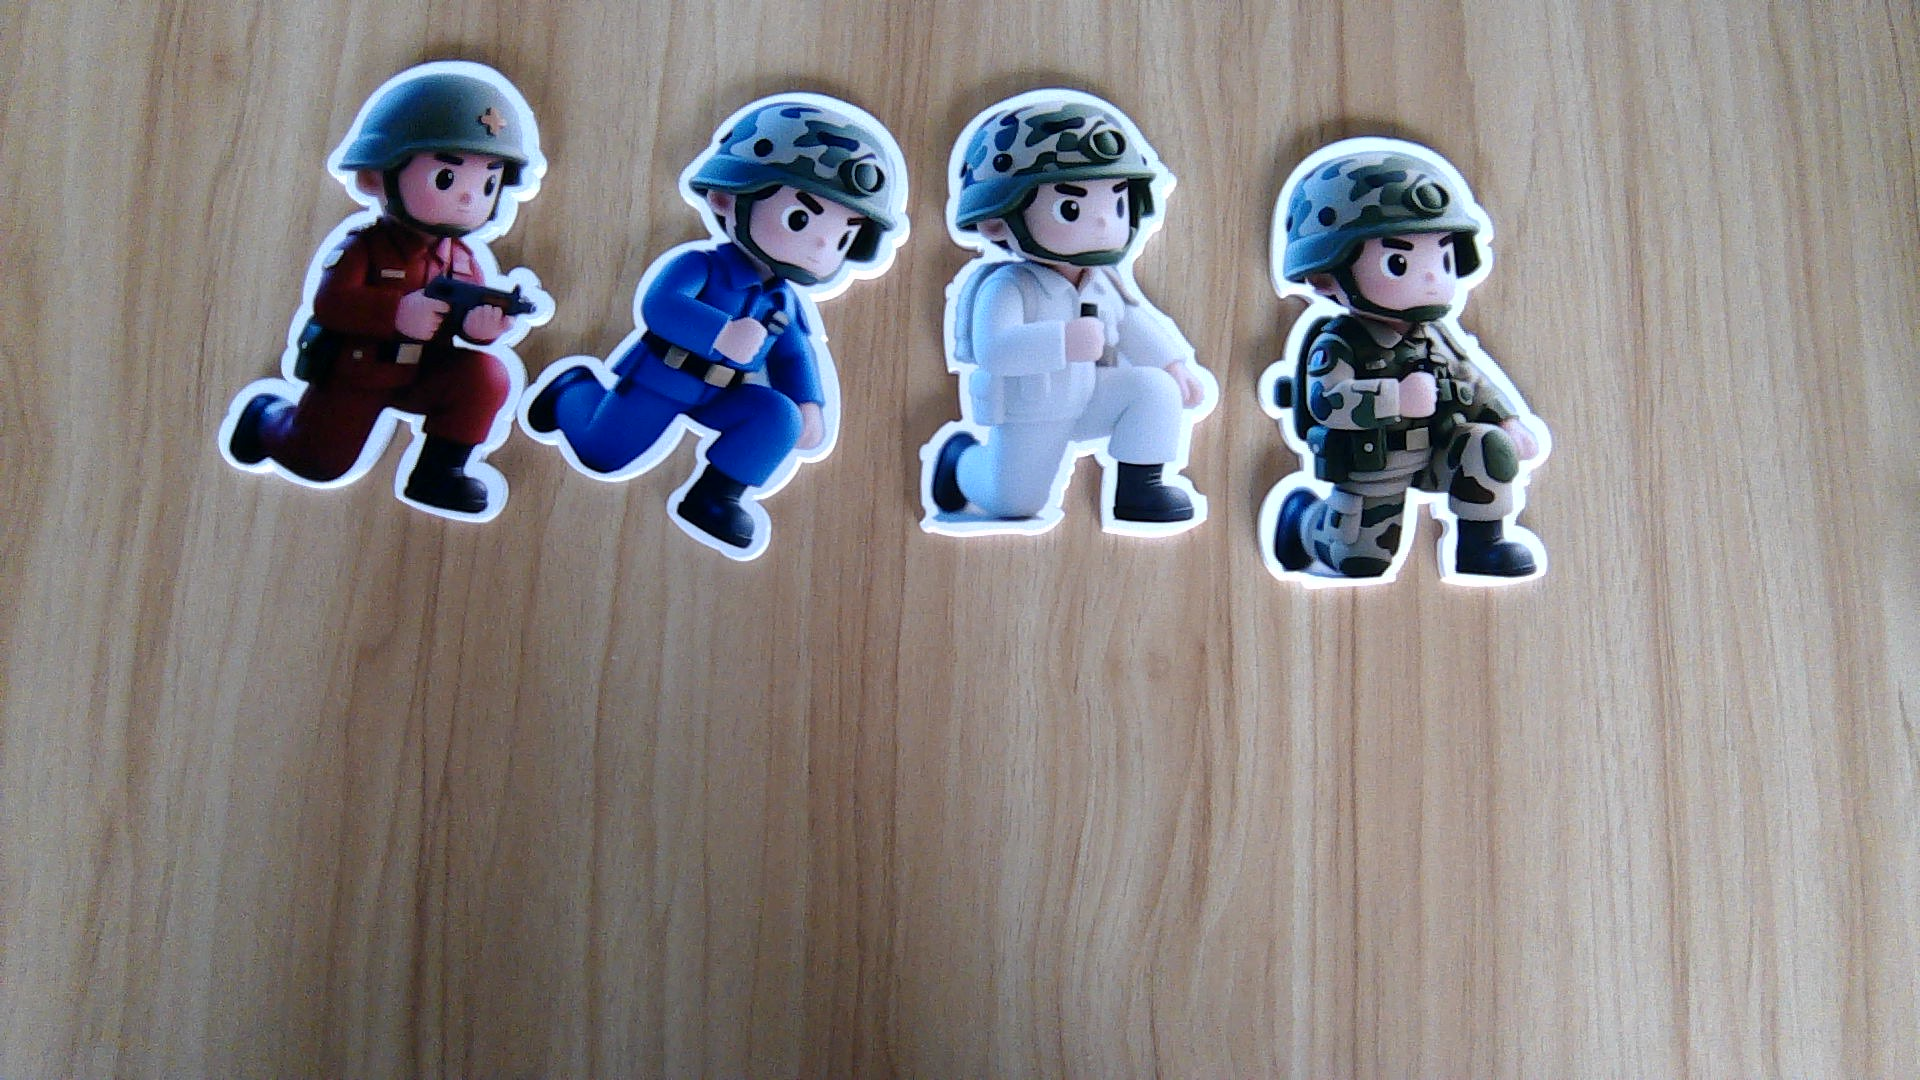人质: (916, 264, 1220, 543)
友军: (1250, 315, 1556, 591)
敌人1: (212, 233, 537, 520)
敌人2: (524, 247, 839, 564)
